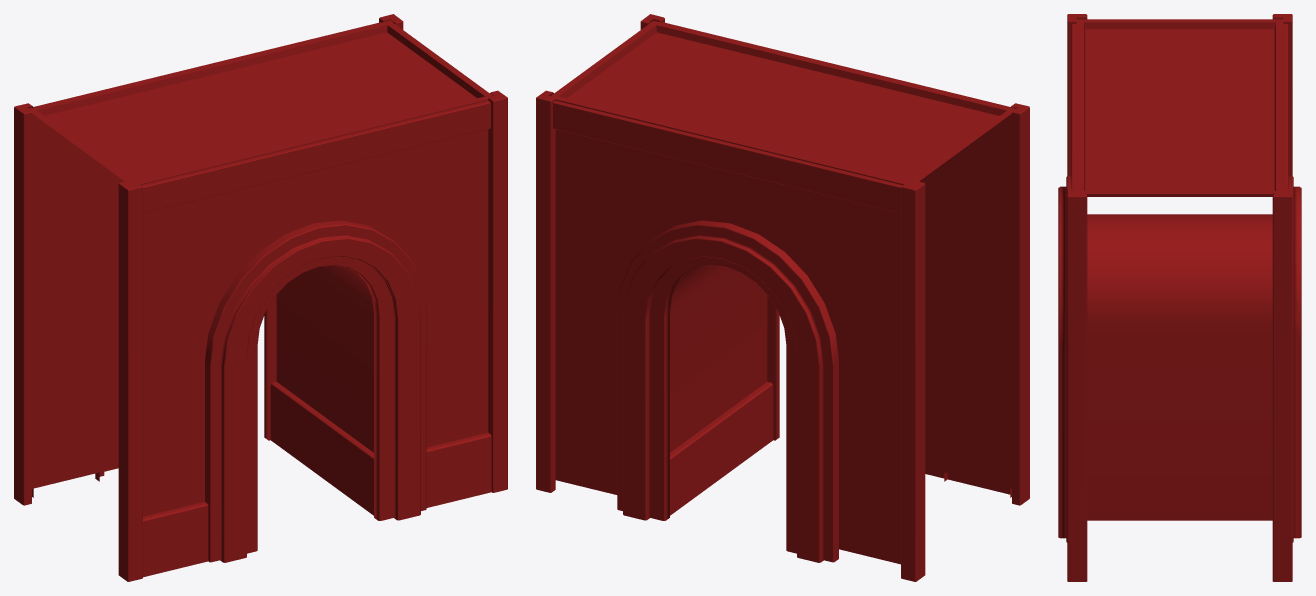
Rendered from DoorWall_4x2x4_Concrete_03.FBX.
3 renders of one model, left to right at view 1: azimuth 30°, elevation 25°; view 2: azimuth 150°, elevation 25°; view 3: azimuth 270°, elevation 25°, orthographic.
Parts seen in each view (by area): view 1: DoorWall_4x2x4_Concrete_02; view 2: DoorWall_4x2x4_Concrete_02; view 3: DoorWall_4x2x4_Concrete_02.
Boxes of the visible parts, left/top/right/bottom form: DoorWall_4x2x4_Concrete_02: left=14, top=14, right=507, bottom=581; DoorWall_4x2x4_Concrete_02: left=536, top=14, right=1029, bottom=581; DoorWall_4x2x4_Concrete_02: left=1058, top=14, right=1301, bottom=581.
Size of the model in its own units: 418 by 412 by 235.
